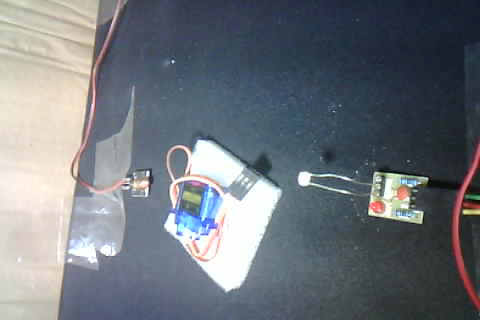motor: (162, 136, 273, 274)
